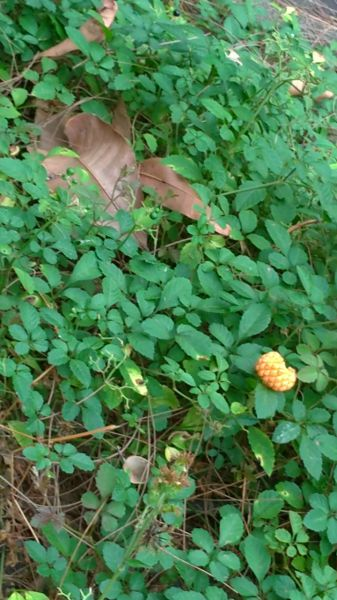eggs: (247, 347, 302, 396)
